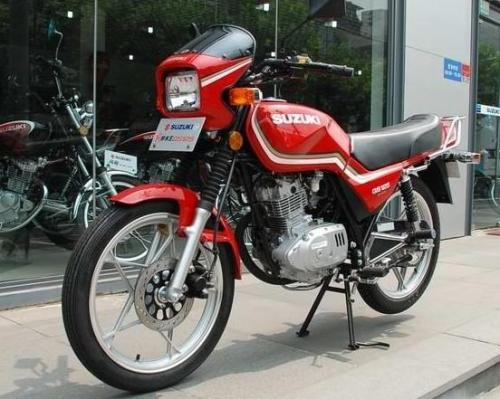motor: (68, 48, 443, 377)
